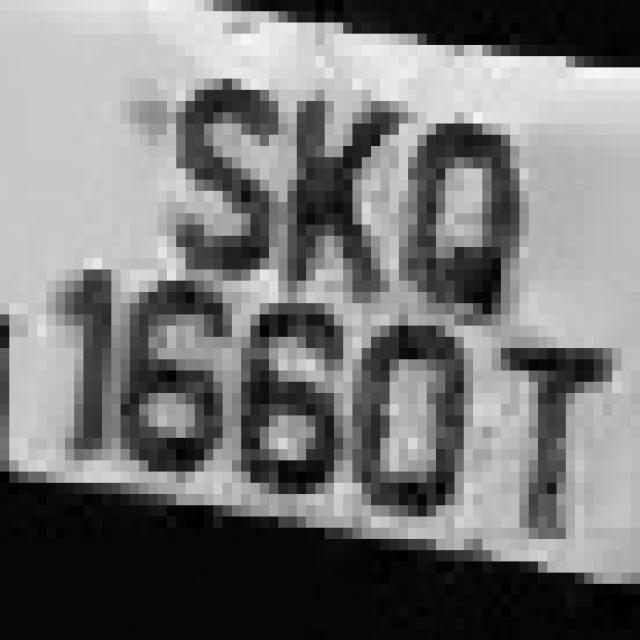0: (352, 303, 464, 528)
1: (46, 214, 130, 506)
6: (232, 269, 343, 539), (120, 247, 222, 505)
K: (260, 68, 399, 360)
Q: (399, 90, 538, 326)
S: (158, 34, 278, 280)
T: (482, 303, 612, 573)
